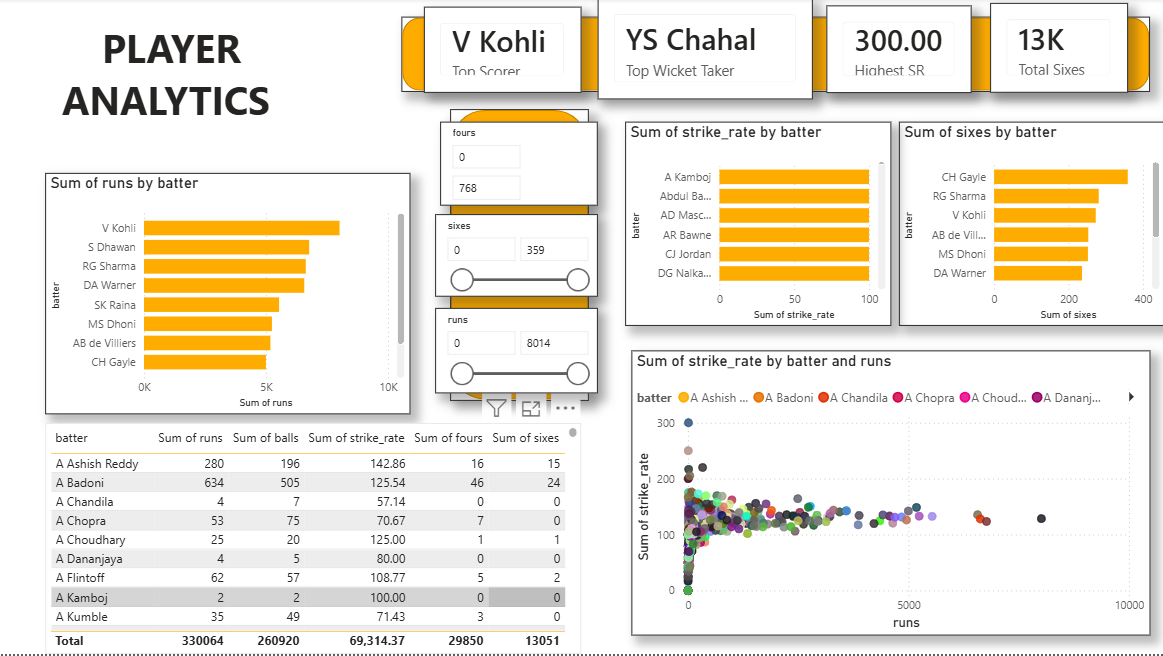

The page's visual inventory and layout, read from the dashboard file:
{"tool":"powerbi","page":{"name":"Player Analytics","canvas":[1280,720],"ordinal":1},"visuals":[{"type":"shape","box":[495.4,122.1,152.3,319.7],"z":0},{"type":"shape","box":[441.9,20.6,822,82.3],"z":1000},{"type":"textbox","box":[9.6,20.6,347.2,129],"z":2000},{"type":"barChart","fields":{"Y":["Sum(player_stats.runs)"],"Category":["player_stats.batter"]},"box":[50.8,192.1,400.7,264.8],"z":3000},{"type":"barChart","fields":{"Category":["player_stats.batter"],"Y":["Sum(player_stats.sixes)"]},"box":[988,135.8,292.3,223.7],"z":4000},{"type":"barChart","fields":{"Category":["player_stats.batter"],"Y":["Sum(player_stats.strike_rate)"]},"box":[687.5,135.8,292,224],"z":5000},{"type":"scatterChart","fields":{"Y":["Sum(player_stats.strike_rate)"],"X":["player_stats.runs"],"Series":["player_stats.batter"]},"box":[694.3,387,569.5,312.9],"z":6000},{"type":"tableEx","fields":{"Values":["player_stats.batter","Sum(player_stats.runs)","Sum(player_stats.balls)","Sum(player_stats.strike_rate)","Sum(player_stats.fours)","Sum(player_stats.sixes)"]},"box":[50.8,466.6,588.7,253.9],"z":7000},{"type":"cardVisual","fields":{"Data":["DateTable.Top Scorer"]},"box":[466.6,9.6,172.9,94.7],"z":8000},{"type":"cardVisual","fields":{"Data":["player_stats.Top Wicket Taker"]},"box":[657.3,0,236,111.1],"z":9000},{"type":"cardVisual","fields":{"Data":["player_stats.Highest SR"]},"box":[908.4,8.2,159.2,96.1],"z":10000},{"type":"cardVisual","fields":{"Data":["matches_cleaned.Total Sixes"]},"box":[1088.2,5.5,150.9,98.8],"z":11000},{"type":"slicer","fields":{"Values":["player_stats.fours"]},"box":[484.4,135.8,172.9,91.9],"z":12000},{"type":"slicer","fields":{"Values":["player_stats.sixes"]},"box":[478.9,237.4,178.4,90.6],"z":13000},{"type":"slicer","fields":{"Values":["player_stats.runs"]},"box":[478.9,340.3,178.4,93.3],"z":14000}]}

Visuals, with their boxes in screenshot pixels (x1, y1, x2, y2), scaled from the page's 1280x720 canvas onto the 1163x656 screenshot:
shape: x1=450 y1=111 x2=588 y2=403
shape: x1=402 y1=19 x2=1148 y2=94
textbox: x1=9 y1=19 x2=324 y2=136
barChart - Sum(player_stats.runs) x player_stats.batter: x1=46 y1=175 x2=410 y2=416
barChart - player_stats.batter x Sum(player_stats.sixes): x1=898 y1=124 x2=1162 y2=328
barChart - player_stats.batter x Sum(player_stats.strike_rate): x1=625 y1=124 x2=890 y2=328
scatterChart - Sum(player_stats.strike_rate) x player_stats.runs: x1=631 y1=353 x2=1148 y2=638
tableEx - player_stats.batter x Sum(player_stats.runs): x1=46 y1=425 x2=581 y2=655
cardVisual - DateTable.Top Scorer: x1=424 y1=9 x2=581 y2=95
cardVisual - player_stats.Top Wicket Taker: x1=597 y1=0 x2=812 y2=101
cardVisual - player_stats.Highest SR: x1=825 y1=7 x2=970 y2=95
cardVisual - matches_cleaned.Total Sixes: x1=989 y1=5 x2=1126 y2=95
slicer - player_stats.fours: x1=440 y1=124 x2=597 y2=207
slicer - player_stats.sixes: x1=435 y1=216 x2=597 y2=299
slicer - player_stats.runs: x1=435 y1=310 x2=597 y2=395
